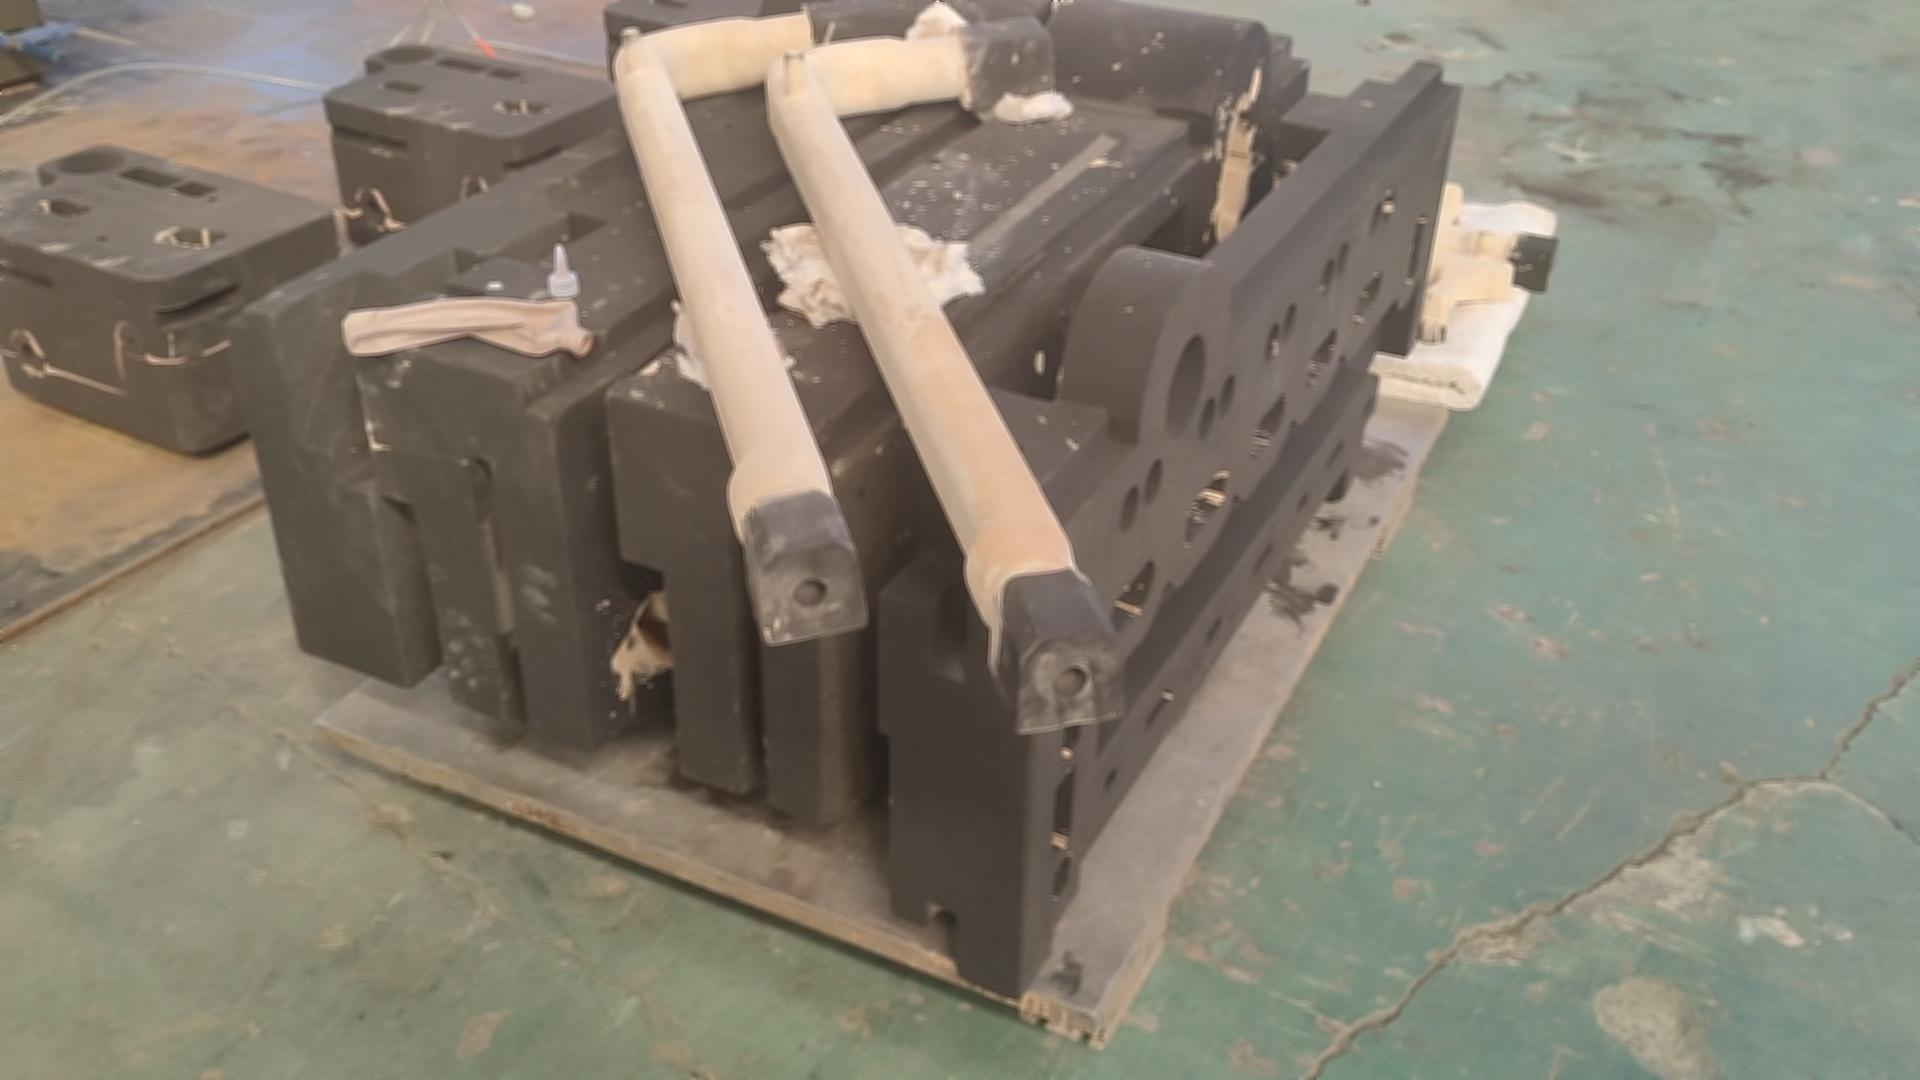pouring hole: (1164, 334, 1209, 438), (51, 148, 123, 175), (373, 45, 442, 65)
